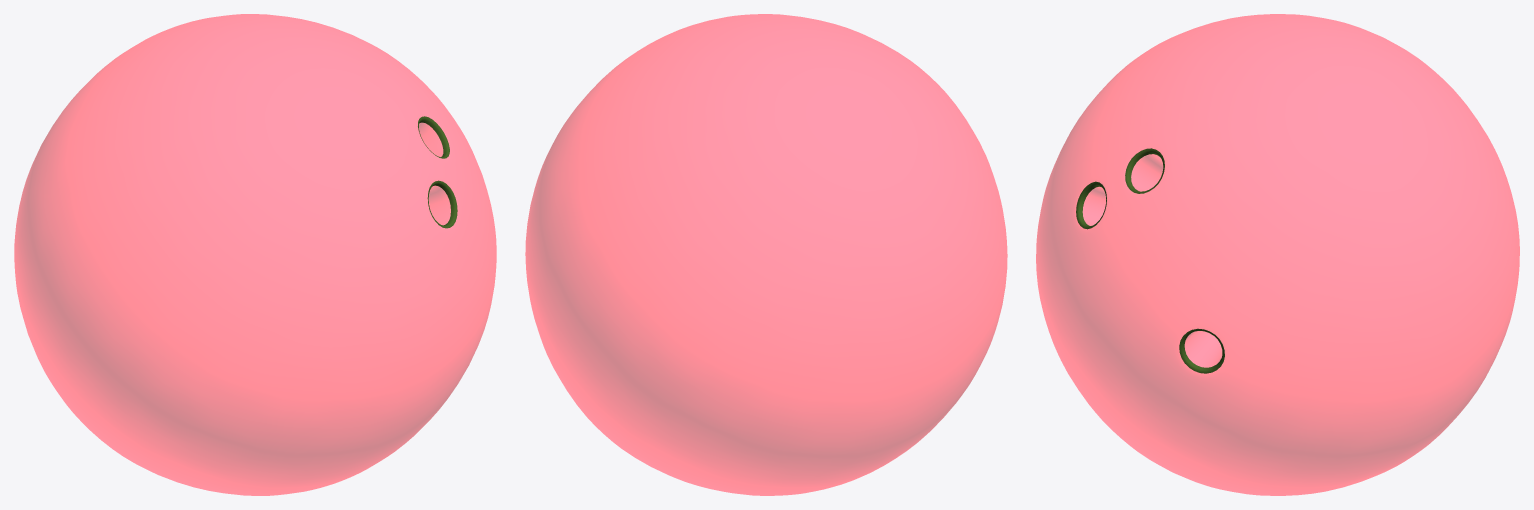
The model's file is bowlingBall.glb.
3 views of the same model, side by side, from view 1: azimuth 30°, elevation 25°; view 2: azimuth 150°, elevation 25°; view 3: azimuth 270°, elevation 25° (orthographic).
Visible parts, largest first — view 1: Bowling Ball; view 2: Bowling Ball; view 3: Bowling Ball.
Boxes of the visible parts, box(x1,y1,x2,y2) form: Bowling Ball: box(14, 14, 496, 495); Bowling Ball: box(525, 14, 1007, 495); Bowling Ball: box(1036, 14, 1519, 495).
Bounding box in the file's own units: 0.2139 × 0.2133 × 0.2144.
